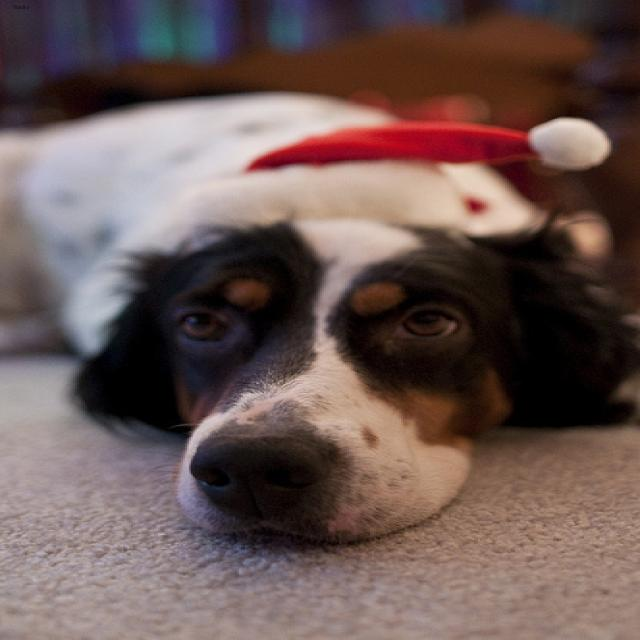dog-english_setter: (2, 77, 636, 552)
